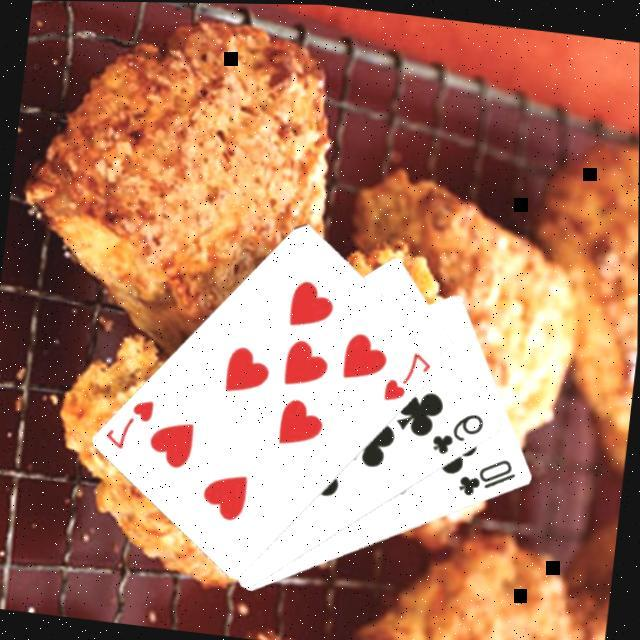10C: (456, 450, 524, 504)
7H: (102, 392, 160, 456), (382, 344, 438, 408)
9C: (430, 404, 491, 462)
